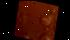plaque psoriasis: (37, 12, 52, 25), (36, 31, 54, 40), (52, 13, 59, 31), (17, 31, 30, 39), (49, 5, 58, 14), (18, 0, 33, 4)
